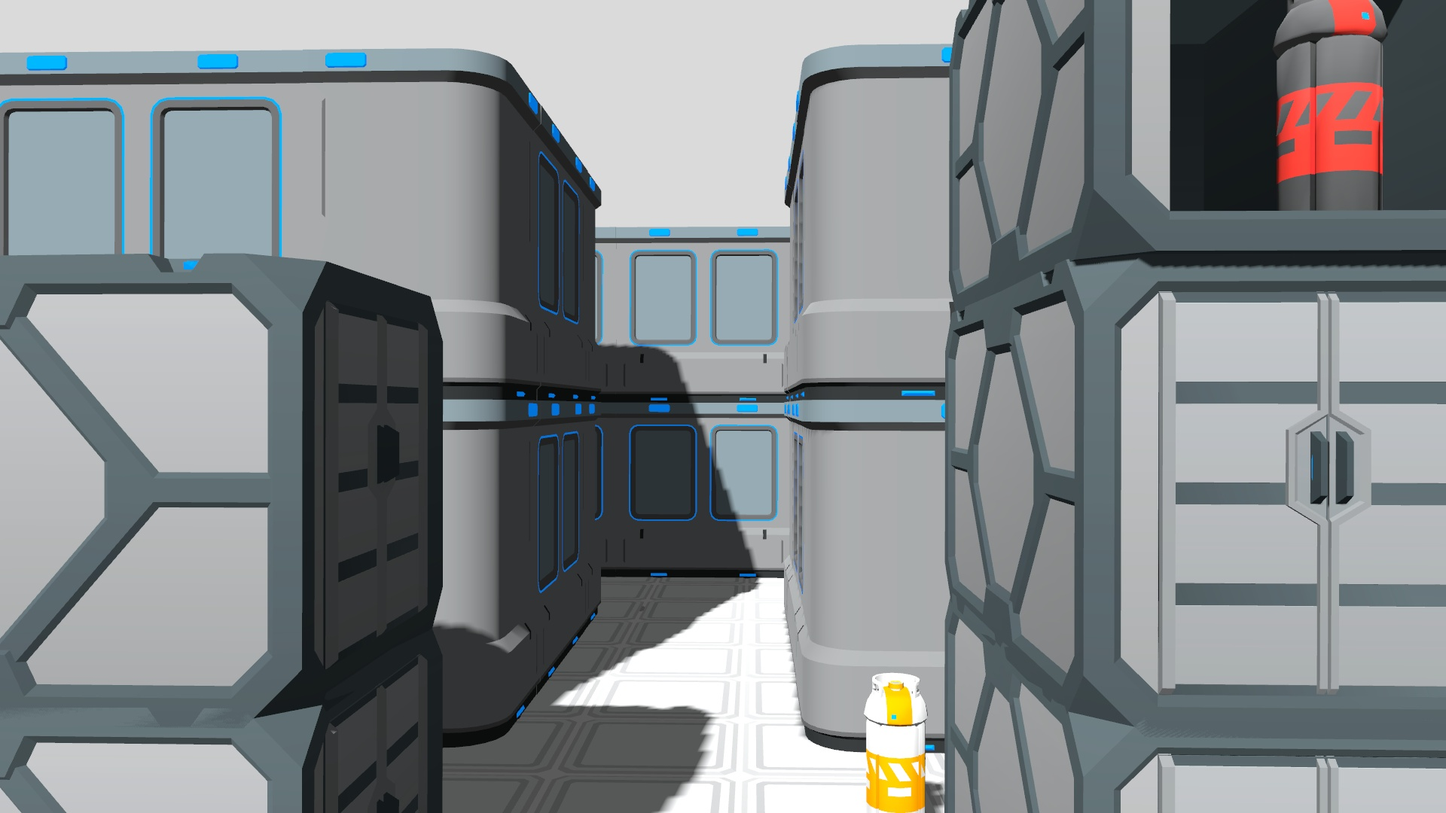red_barrel: (1270, 0, 1391, 215)
yellow_barrel: (860, 666, 932, 812)
